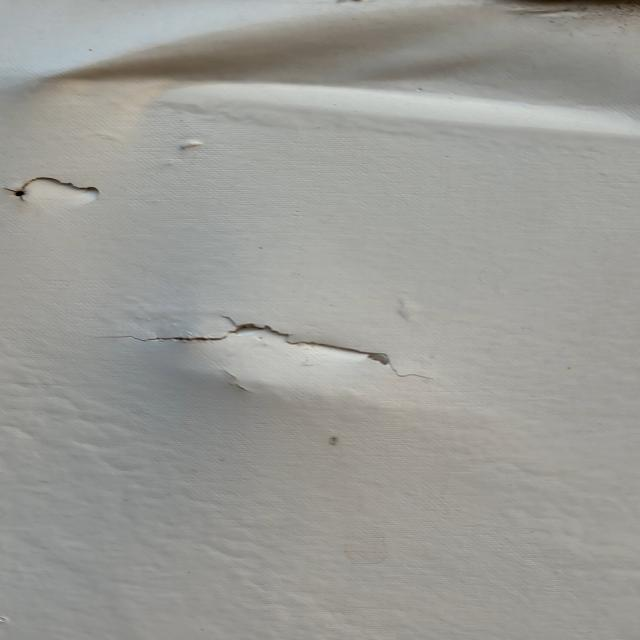Dents or Deformation: (58, 1, 640, 139)
Scratches: (94, 306, 431, 383), (1, 169, 129, 216)
